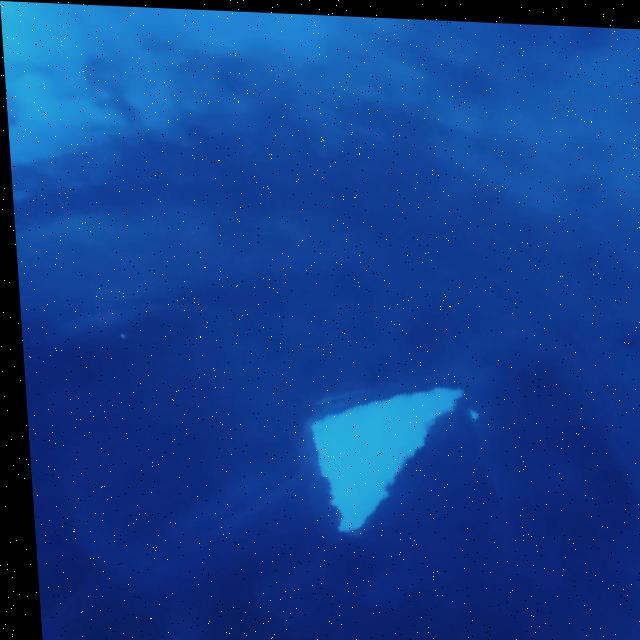thermocoal: (283, 374, 488, 538)
